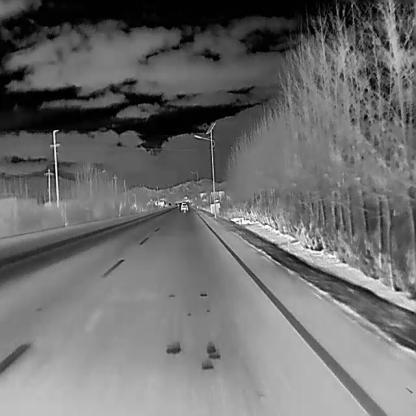car: (180, 202, 188, 211)
